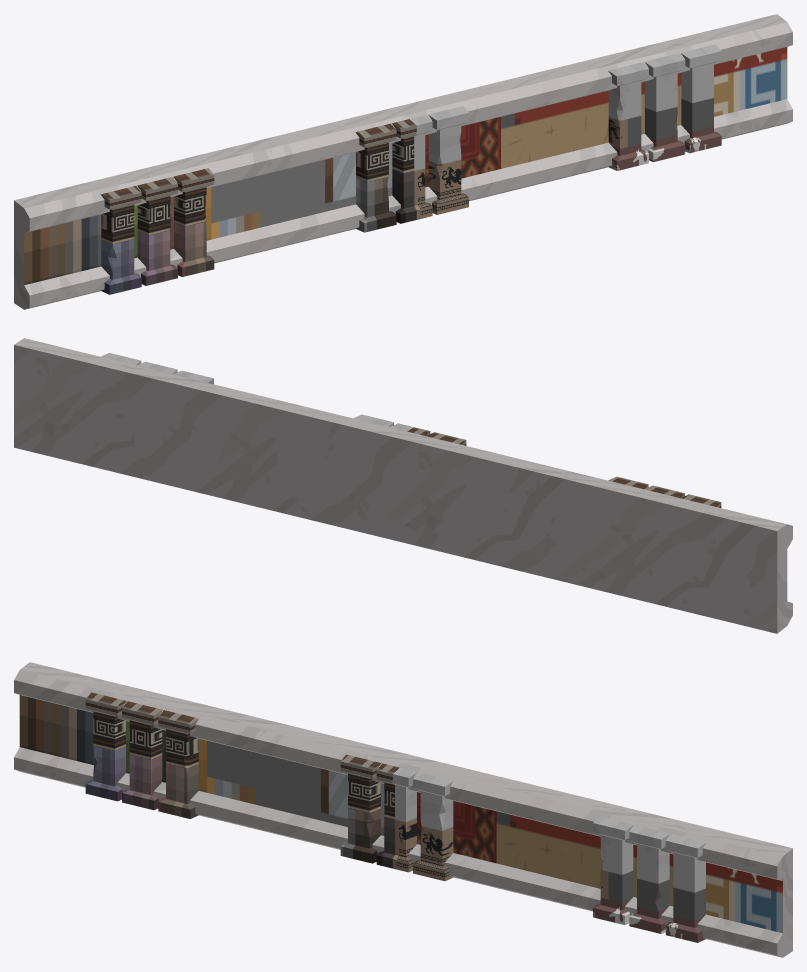
File: ancient_SM_Bld_Trim_Large_02.gltf
3 views of the same model, one above another, from view 1: azimuth 30°, elevation 25°; view 2: azimuth 150°, elevation 25°; view 3: azimuth 330°, elevation 25° (orthographic).
Parts seen in each view (by area): view 1: SM_Bld_Trim_Large_02; view 2: SM_Bld_Trim_Large_02; view 3: SM_Bld_Trim_Large_02.
Part boxes in pixels (<box>): SM_Bld_Trim_Large_02: <box>14,14,792,309</box>; SM_Bld_Trim_Large_02: <box>14,338,792,633</box>; SM_Bld_Trim_Large_02: <box>14,662,792,957</box>.
Bounding box in the file's own units: 7.5 × 0.9669 × 0.3384.
3 materials, 3 textured.
